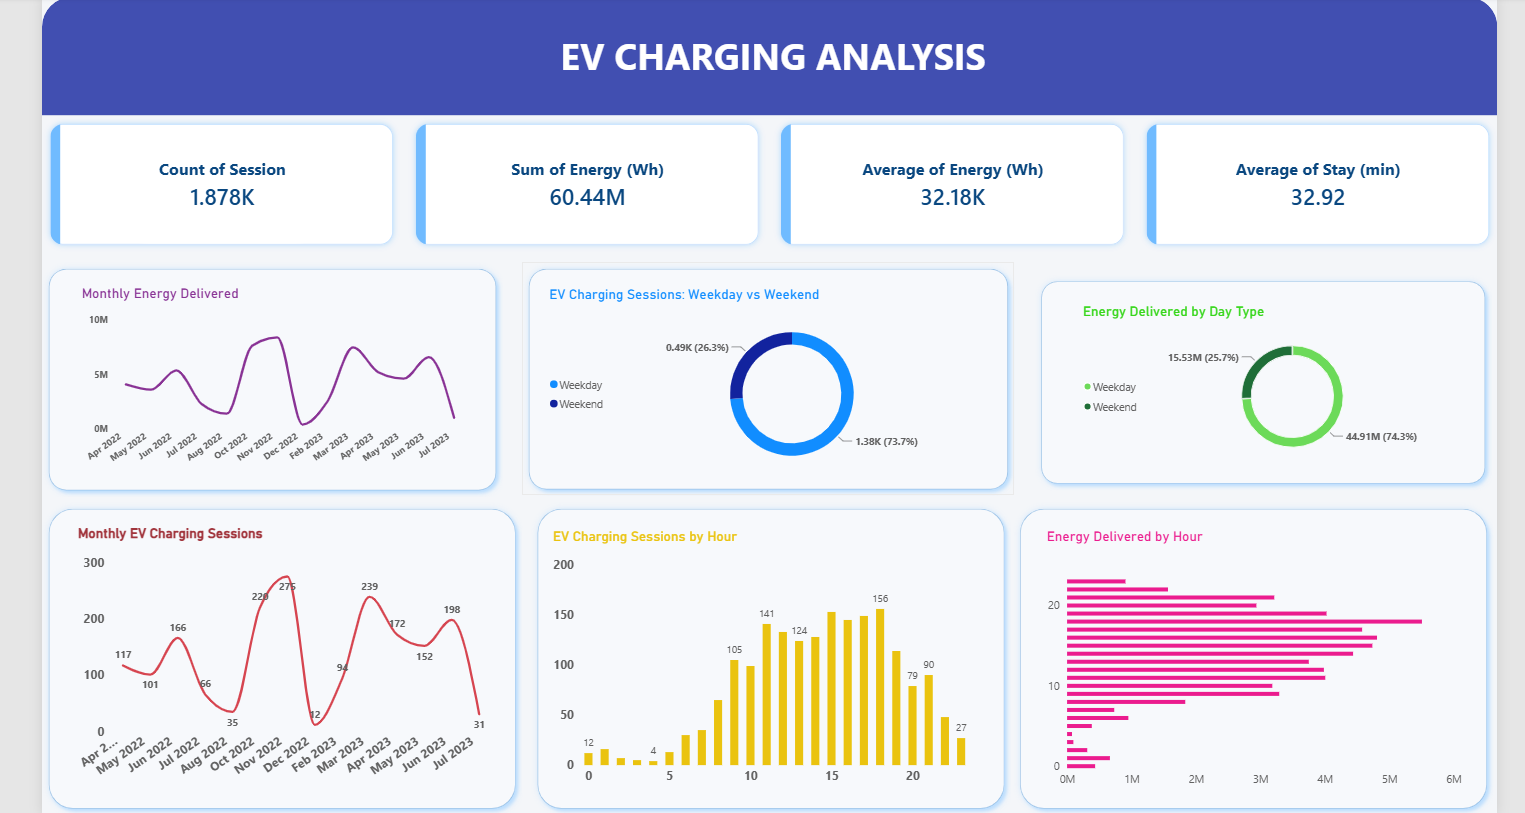

What the dashboard file says about the page in this screenshot:
{"tool":"powerbi","page":{"name":"EV Charging Dashboard","canvas":[1920,1080],"ordinal":0},"visuals":[{"type":"shape","box":[0,0,1920.4,156.4],"z":0},{"type":"textbox","box":[10.3,45.3,1910.1,74.1],"z":1000},{"type":"cardVisual","fields":{"Data":["CountNonNull(Session_data.Session)","Sum(Session_data.Energy (Wh))","Avg(Session_data.Energy (Wh))","Avg(Session_data.Stay (min))"]},"box":[0,157.1,1920,181.4],"z":2000},{"type":"shape","box":[0,350,608.4,310.4],"z":3000,"group":"g4"},{"type":"shape","box":[1310,366.2,603.8,285],"z":3000,"group":"g6"},{"type":"group","id":"g1","title":"Group 1","box":[0,666.9,634,413.7],"z":3000},{"type":"shape","box":[633.8,350,650.4,309.1],"z":4000,"group":"g5"},{"type":"donutChart","title":"Energy Delivered by Day Type","fields":{"Category":["Session_data.Day Type"],"Y":["Sum(Session_data.Energy (Wh))"]},"box":[1358.6,388.5,504.3,240],"z":4000,"group":"g6"},{"type":"group","id":"g2","title":"Group 2","box":[644.3,666.9,634,413.7],"z":4000},{"type":"lineChart","title":"Monthly Energy Delivered","fields":{"Category":["Session_data.Month Year"],"Y":["Sum(Session_data.Energy (Wh))"]},"box":[35.6,366.8,536.8,277.8],"z":5000,"group":"g4"},{"type":"group","id":"g3","title":"Group 3","box":[1282,666,634,413.7],"z":5000},{"type":"group","id":"g4","title":"Group 4","box":[0,350,608.8,310],"z":6000},{"type":"donutChart","title":"EV Charging Sessions: Weekday vs Weekend","fields":{"Category":["Session_data.Day Type"],"Y":["CountNonNull(Session_data.Session)"]},"box":[653.2,368.7,592.1,276.3],"z":6000,"group":"g5"},{"type":"group","id":"g5","title":"Group 5","box":[633.8,350,650,308.8],"z":7000},{"type":"group","id":"g6","title":"Group 6","box":[1310,366.2,603.8,285],"z":8000},{"type":"shape","box":[644.3,666.9,634,413.7],"z":9000,"group":"g2"},{"type":"shape","box":[1282,666,634,413.7],"z":10000,"group":"g3"},{"type":"shape","box":[0,666.9,634,413.7],"z":11000,"group":"g1"},{"type":"lineChart","title":"Monthly EV Charging Sessions","fields":{"Category":["Session_data.Month Year"],"Y":["CountNonNull(Session_data.Session)"]},"box":[32,684,576,376],"z":12000,"group":"g1"},{"type":"clusteredColumnChart","title":"EV Charging Sessions by Hour","fields":{"Category":["Session_data.Hour"],"Y":["CountNonNull(Session_data.Session)"]},"box":[658,686,602,374],"z":13000,"group":"g2"},{"type":"clusteredBarChart","title":"Energy Delivered by Hour","fields":{"Category":["Session_data.Hour"],"Y":["Sum(Session_data.Energy (Wh))"]},"box":[1310,686,580,376],"z":14000,"group":"g3"}]}

Visuals, with their boxes on the page's 1920x1080 design canvas (x1, y1, x2, y2). These are canvas units, not pixel positions in the 1525x813 screenshot, which may show the page scaled, cropped or inside an application window:
shape: 0:0:1920:156
textbox: 10:45:1920:119
cardVisual - CountNonNull(Session_data.Session) x Sum(Session_data.Energy (Wh)): 0:157:1920:338
shape: 0:350:608:660
shape: 1310:366:1914:651
"Group 1" group: 0:667:634:1081
shape: 634:350:1284:659
"Energy Delivered by Day Type" donutChart: 1359:388:1863:628
"Group 2" group: 644:667:1278:1081
"Monthly Energy Delivered" lineChart: 36:367:572:645
"Group 3" group: 1282:666:1916:1080
"Group 4" group: 0:350:609:660
"EV Charging Sessions: Weekday vs Weekend" donutChart: 653:369:1245:645
"Group 5" group: 634:350:1284:659
"Group 6" group: 1310:366:1914:651
shape: 644:667:1278:1081
shape: 1282:666:1916:1080
shape: 0:667:634:1081
"Monthly EV Charging Sessions" lineChart: 32:684:608:1060
"EV Charging Sessions by Hour" clusteredColumnChart: 658:686:1260:1060
"Energy Delivered by Hour" clusteredBarChart: 1310:686:1890:1062
